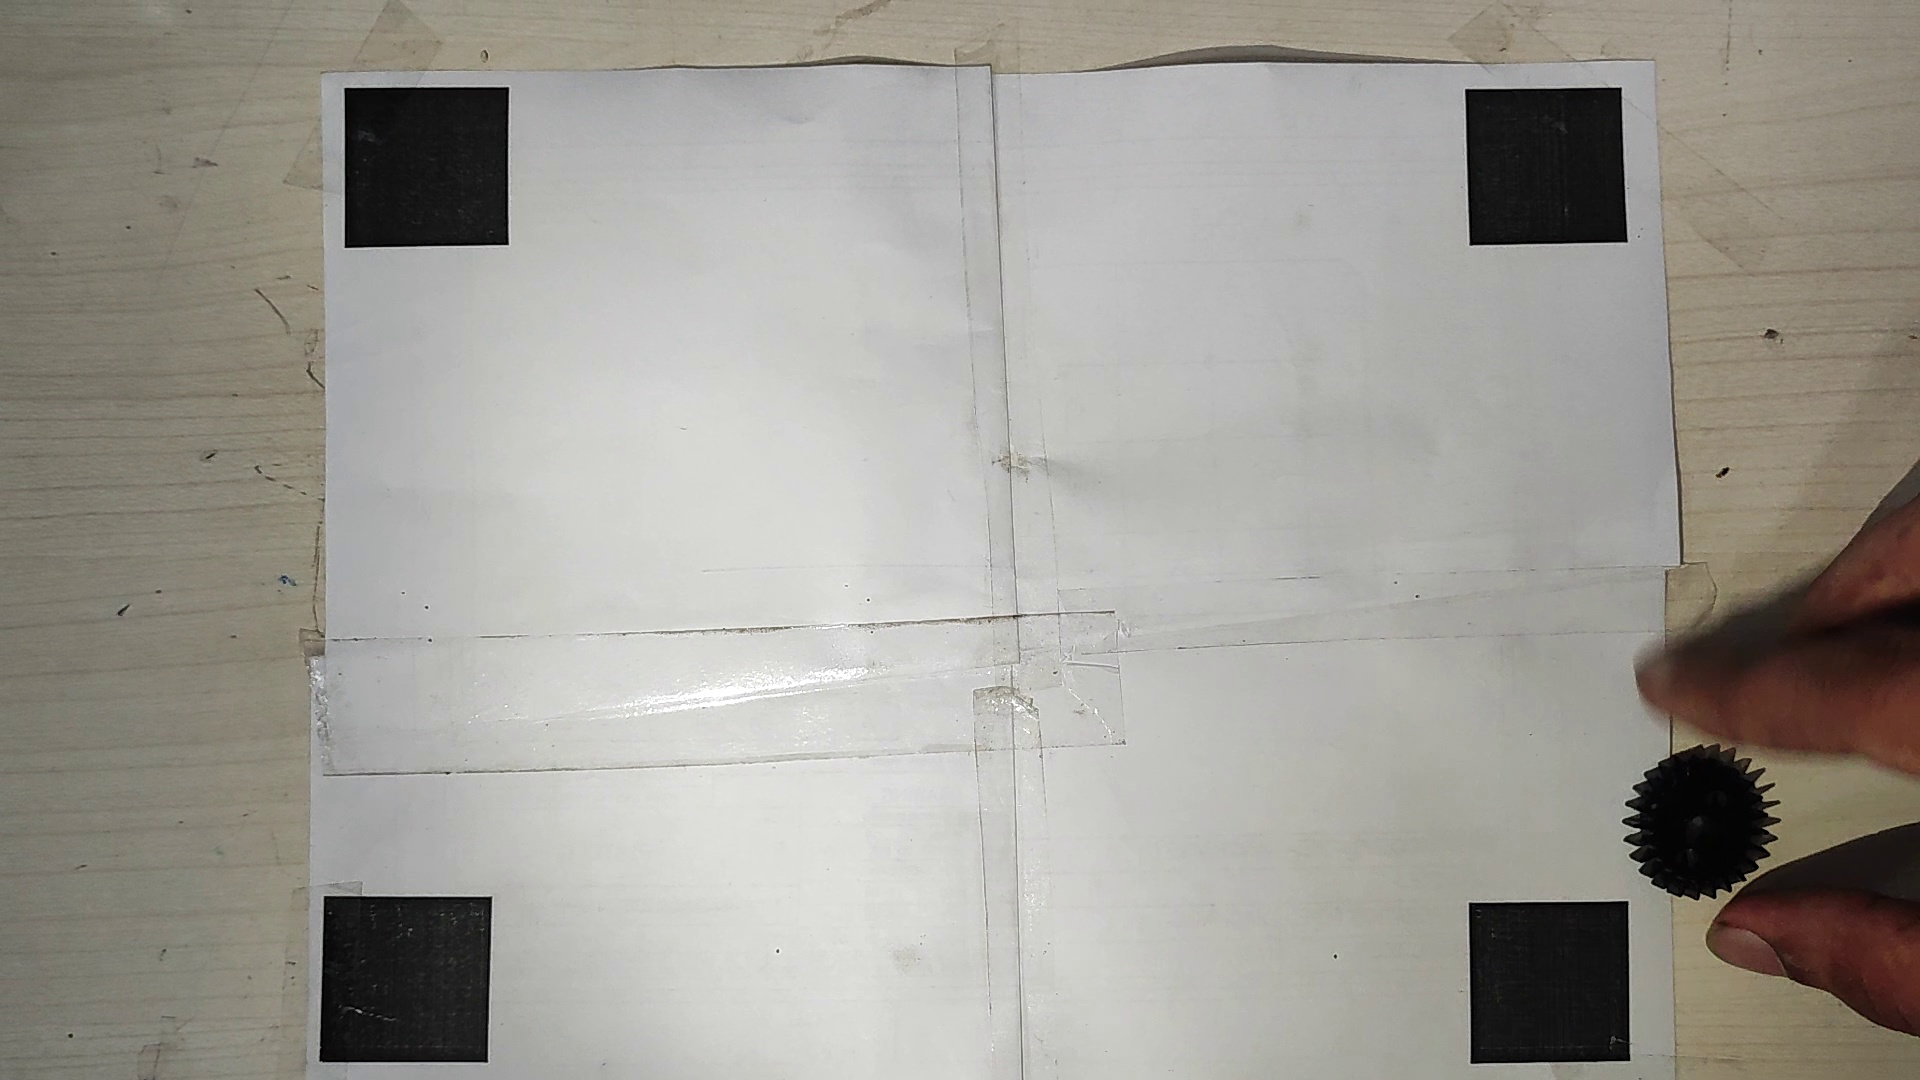Gear: (1614, 741, 1779, 906)
